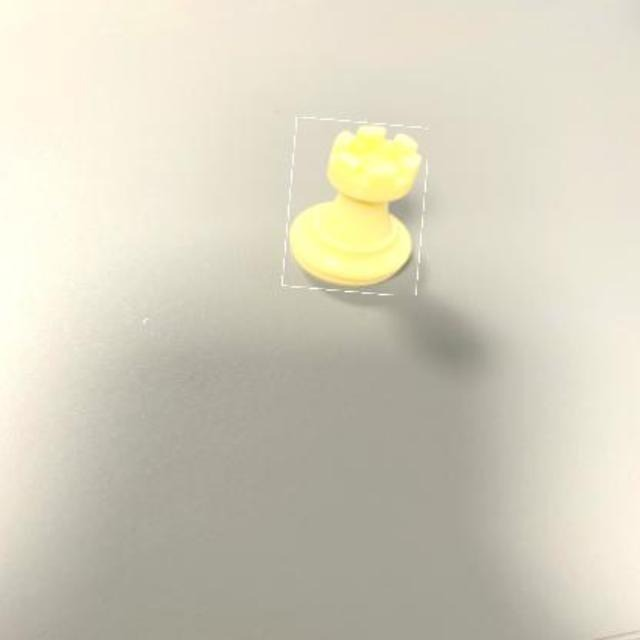white-rook: (286, 121, 426, 294)
